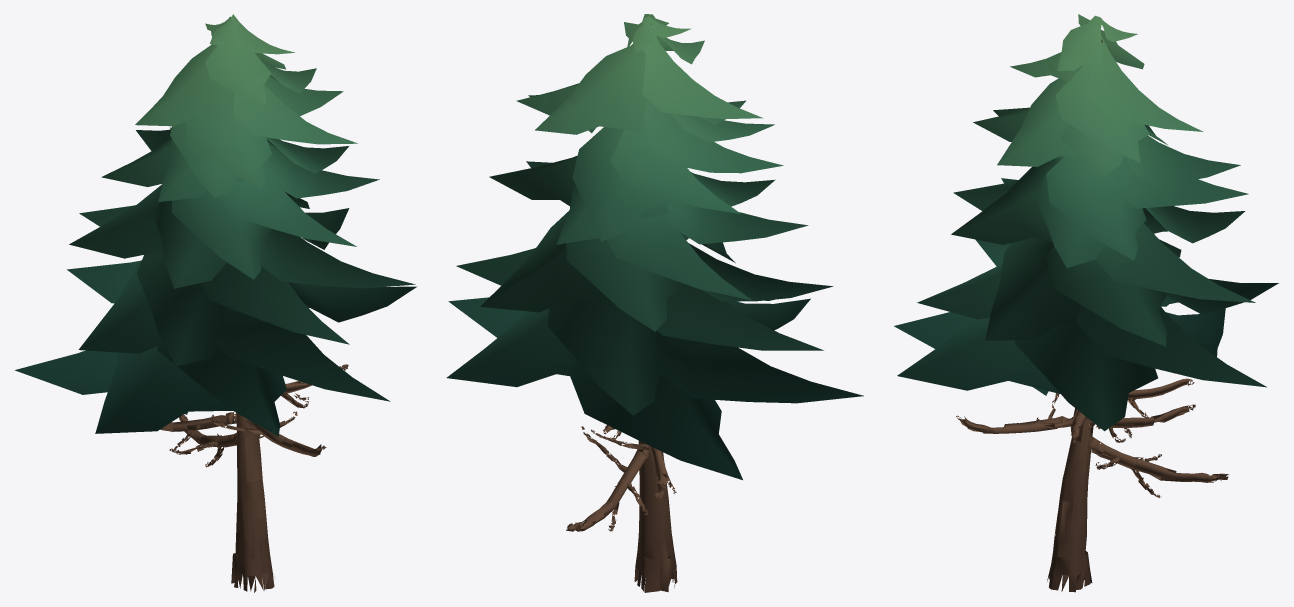
The model's file is q_tree_pine_a.glb.
3 views of the same model, side by side, from view 1: azimuth 30°, elevation 25°; view 2: azimuth 150°, elevation 25°; view 3: azimuth 270°, elevation 25° (orthographic). The views are drawn at different scales.
Visible parts, largest first — view 1: Leaves, Trunk; view 2: Leaves, Trunk; view 3: Leaves, Trunk.
Boxes of the visible parts, bbox=[...] form: Leaves: bbox=[15, 14, 416, 436]; Trunk: bbox=[160, 364, 348, 592]; Leaves: bbox=[446, 14, 863, 479]; Trunk: bbox=[566, 425, 677, 592]; Leaves: bbox=[894, 14, 1278, 431]; Trunk: bbox=[956, 39, 1228, 592].
Size of the model in its own units: 3.78 by 5.6 by 3.47.
